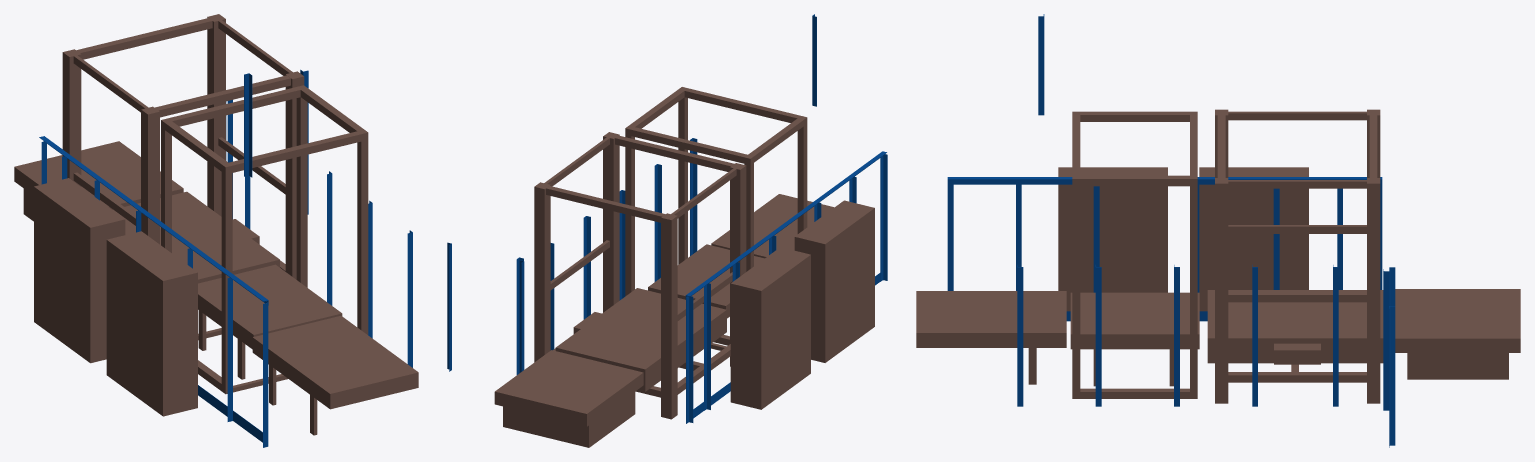
Rendered from GCC-AAV-13220-30.nwd(164).fbx.
3 views of the same model, side by side, from view 1: azimuth 30°, elevation 25°; view 2: azimuth 150°, elevation 25°; view 3: azimuth 270°, elevation 25° (orthographic). The views are drawn at different scales.
Visible parts, largest first — view 1: BOX 2 of SUBEQUIPMENT 34 of EQUIPMENT /721-U-101, BOX 1 of SUBEQUIPMENT 34 of EQUIPMENT /721-U-101, BOX 30 of SUBEQUIPMENT 42 of EQUIPMENT /721-U-101, BOX 1 of SUBEQUIPMENT 38 of EQUIPMENT /721-U-101, BOX 1 of SUBEQUIPMENT 41 of EQUIPMENT /721-U-101, BOX 1 of SUBEQUIPMENT 39 of EQUIPMENT /721-U-101, BOX 15 of SUBEQUIPMENT 41 of EQUIPMENT /721-U-101, BOX 14 of SUBEQUIPMENT 38 of EQUIPMENT /721-U-101, BOX 12 of SUBEQUIPMENT 41 of EQUIPMENT /721-U-101, BOX 13 of SUBEQUIPMENT 41 of EQUIPMENT /721-U-101, BOX 14 of SUBEQUIPMENT 41 of EQUIPMENT /721-U-101, BOX 16 of SUBEQUIPMENT 38 of EQUIPMENT /721-U-101 (+21 smaller); view 2: BOX 1 of SUBEQUIPMENT 34 of EQUIPMENT /721-U-101, BOX 2 of SUBEQUIPMENT 34 of EQUIPMENT /721-U-101, BOX 1 of SUBEQUIPMENT 41 of EQUIPMENT /721-U-101, BOX 1 of SUBEQUIPMENT 39 of EQUIPMENT /721-U-101, BOX 13 of SUBEQUIPMENT 41 of EQUIPMENT /721-U-101, BOX 2 of SUBEQUIPMENT 39 of EQUIPMENT /721-U-101, BOX 15 of SUBEQUIPMENT 41 of EQUIPMENT /721-U-101, BOX 14 of SUBEQUIPMENT 41 of EQUIPMENT /721-U-101, BOX 30 of SUBEQUIPMENT 42 of EQUIPMENT /721-U-101, BOX 1 of SUBEQUIPMENT 38 of EQUIPMENT /721-U-101, BOX 12 of SUBEQUIPMENT 41 of EQUIPMENT /721-U-101, BOX 16 of SUBEQUIPMENT 38 of EQUIPMENT /721-U-101 (+26 smaller); view 3: BOX 2 of SUBEQUIPMENT 34 of EQUIPMENT /721-U-101, BOX 1 of SUBEQUIPMENT 34 of EQUIPMENT /721-U-101, BOX 1 of SUBEQUIPMENT 41 of EQUIPMENT /721-U-101, BOX 30 of SUBEQUIPMENT 42 of EQUIPMENT /721-U-101, BOX 1 of SUBEQUIPMENT 39 of EQUIPMENT /721-U-101, BOX 1 of SUBEQUIPMENT 38 of EQUIPMENT /721-U-101, BOX 14 of SUBEQUIPMENT 41 of EQUIPMENT /721-U-101, BOX 15 of SUBEQUIPMENT 41 of EQUIPMENT /721-U-101, BOX 2 of SUBEQUIPMENT 39 of EQUIPMENT /721-U-101, BOX 14 of SUBEQUIPMENT 38 of EQUIPMENT /721-U-101, BOX 16 of SUBEQUIPMENT 38 of EQUIPMENT /721-U-101, GENSEC 9 of TMPLATE 1 of SUBEQUIPMENT 8 of EQUIPMENT /721-U- (+20 smaller).
Boxes of the visible parts, bbox=[...] form: BOX 2 of SUBEQUIPMENT 34 of EQUIPMENT /721-U-101: bbox=[106, 231, 197, 416]; BOX 1 of SUBEQUIPMENT 34 of EQUIPMENT /721-U-101: bbox=[34, 178, 125, 363]; BOX 30 of SUBEQUIPMENT 42 of EQUIPMENT /721-U-101: bbox=[252, 316, 418, 409]; BOX 1 of SUBEQUIPMENT 38 of EQUIPMENT /721-U-101: bbox=[198, 264, 342, 349]; BOX 1 of SUBEQUIPMENT 41 of EQUIPMENT /721-U-101: bbox=[112, 191, 279, 283]; BOX 1 of SUBEQUIPMENT 39 of EQUIPMENT /721-U-101: bbox=[14, 141, 183, 209]; BOX 15 of SUBEQUIPMENT 41 of EQUIPMENT /721-U-101: bbox=[207, 14, 225, 216]; BOX 14 of SUBEQUIPMENT 38 of EQUIPMENT /721-U-101: bbox=[357, 129, 368, 334]; BOX 12 of SUBEQUIPMENT 41 of EQUIPMENT /721-U-101: bbox=[141, 106, 159, 244]; BOX 13 of SUBEQUIPMENT 41 of EQUIPMENT /721-U-101: bbox=[62, 49, 81, 186]; BOX 14 of SUBEQUIPMENT 41 of EQUIPMENT /721-U-101: bbox=[285, 71, 304, 279]; BOX 16 of SUBEQUIPMENT 38 of EQUIPMENT /721-U-101: bbox=[296, 85, 307, 287]; BOX 1 of SUBEQUIPMENT 34 of EQUIPMENT /721-U-101: bbox=[730, 247, 810, 409]; BOX 2 of SUBEQUIPMENT 34 of EQUIPMENT /721-U-101: bbox=[794, 200, 874, 362]; BOX 1 of SUBEQUIPMENT 41 of EQUIPMENT /721-U-101: bbox=[555, 288, 726, 391]; BOX 1 of SUBEQUIPMENT 39 of EQUIPMENT /721-U-101: bbox=[494, 350, 643, 426]; BOX 13 of SUBEQUIPMENT 41 of EQUIPMENT /721-U-101: bbox=[661, 213, 677, 419]; BOX 2 of SUBEQUIPMENT 39 of EQUIPMENT /721-U-101: bbox=[503, 392, 635, 447]; BOX 15 of SUBEQUIPMENT 41 of EQUIPMENT /721-U-101: bbox=[534, 182, 550, 362]; BOX 14 of SUBEQUIPMENT 41 of EQUIPMENT /721-U-101: bbox=[603, 132, 619, 312]; BOX 30 of SUBEQUIPMENT 42 of EQUIPMENT /721-U-101: bbox=[711, 194, 834, 258]; BOX 1 of SUBEQUIPMENT 38 of EQUIPMENT /721-U-101: bbox=[648, 244, 764, 318]; BOX 12 of SUBEQUIPMENT 41 of EQUIPMENT /721-U-101: bbox=[730, 163, 746, 366]; BOX 16 of SUBEQUIPMENT 38 of EQUIPMENT /721-U-101: bbox=[625, 126, 634, 296]; BOX 2 of SUBEQUIPMENT 34 of EQUIPMENT /721-U-101: bbox=[1058, 167, 1167, 311]; BOX 1 of SUBEQUIPMENT 34 of EQUIPMENT /721-U-101: bbox=[1199, 167, 1308, 311]; BOX 1 of SUBEQUIPMENT 41 of EQUIPMENT /721-U-101: bbox=[1207, 290, 1383, 363]; BOX 30 of SUBEQUIPMENT 42 of EQUIPMENT /721-U-101: bbox=[916, 291, 1066, 347]; BOX 1 of SUBEQUIPMENT 39 of EQUIPMENT /721-U-101: bbox=[1395, 289, 1520, 352]; BOX 1 of SUBEQUIPMENT 38 of EQUIPMENT /721-U-101: bbox=[1070, 292, 1199, 349]; BOX 14 of SUBEQUIPMENT 41 of EQUIPMENT /721-U-101: bbox=[1215, 178, 1228, 403]; BOX 15 of SUBEQUIPMENT 41 of EQUIPMENT /721-U-101: bbox=[1367, 178, 1380, 403]; BOX 2 of SUBEQUIPMENT 39 of EQUIPMENT /721-U-101: bbox=[1407, 353, 1508, 379]; BOX 14 of SUBEQUIPMENT 38 of EQUIPMENT /721-U-101: bbox=[1072, 175, 1080, 391]; BOX 16 of SUBEQUIPMENT 38 of EQUIPMENT /721-U-101: bbox=[1190, 175, 1197, 391]; GENSEC 9 of TMPLATE 1 of SUBEQUIPMENT 8 of EQUIPMENT /721-U-: bbox=[947, 177, 1382, 184].
Bounding box in the file's own units: 178 × 177 × 304.
